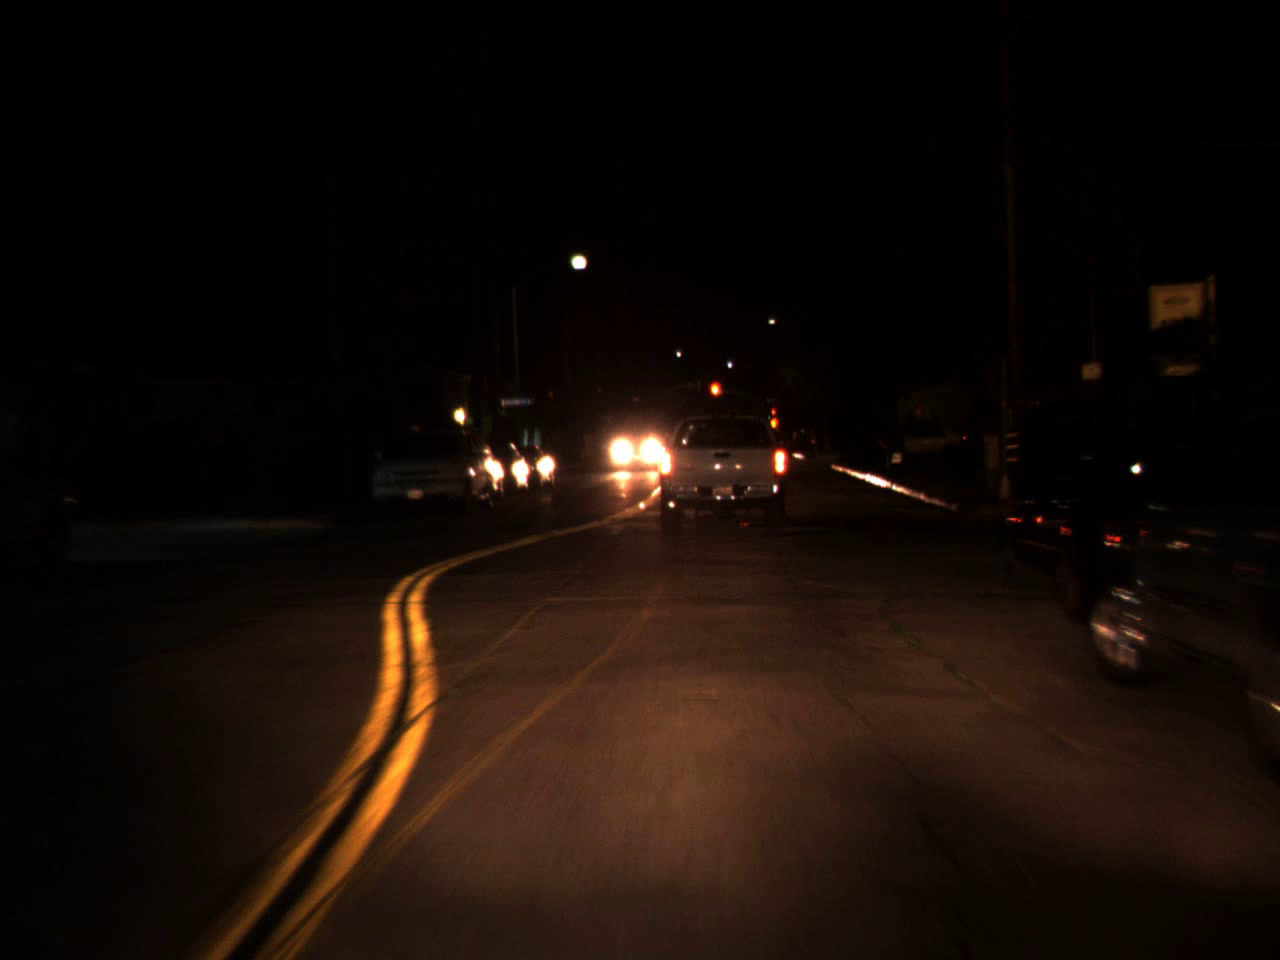stop: (707, 379, 723, 414), (771, 407, 777, 423)
